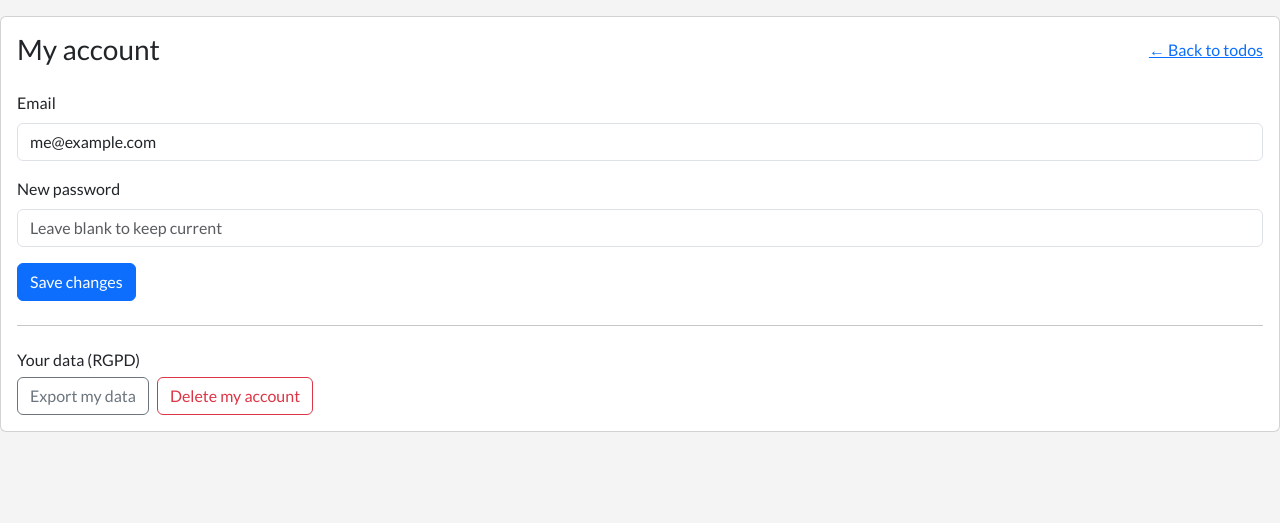
Test: exports profile and todos combined
The image size is (1280, 523).
Click the button "Export my data". click: (83, 396)
box: [17,377,149,415]
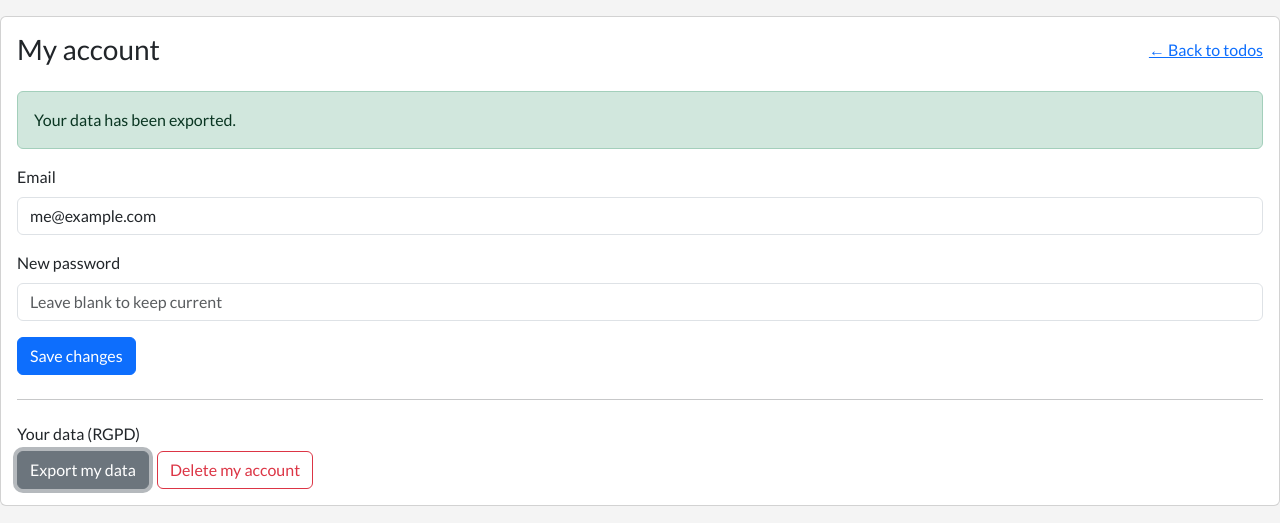
Expected: the text "Your data has been exported." is shown, [17,91,1263,149]
